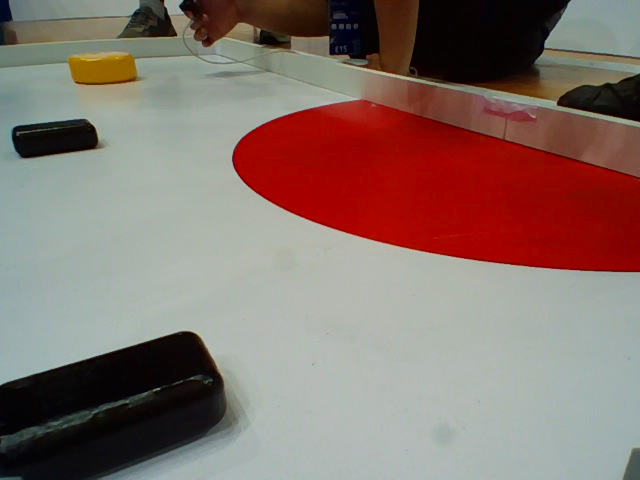black: (1, 330, 234, 473), (11, 120, 103, 155)
yellow: (67, 51, 137, 82)
